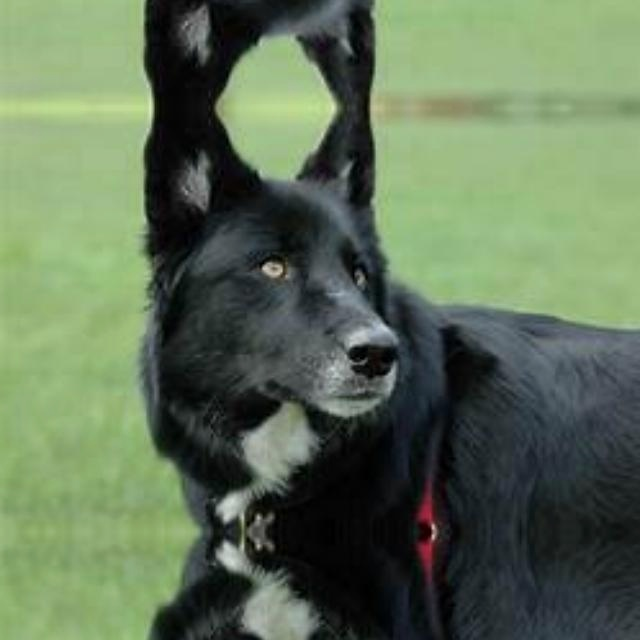dog: (132, 108, 418, 495), (131, 0, 418, 106), (131, 568, 418, 640)
